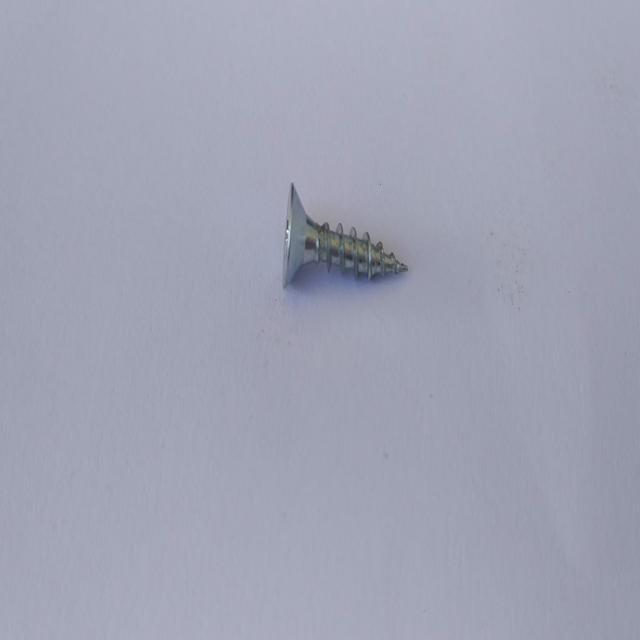Screw: (282, 183, 408, 287)
